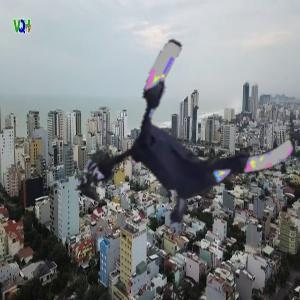drone: (105, 60, 288, 243)
